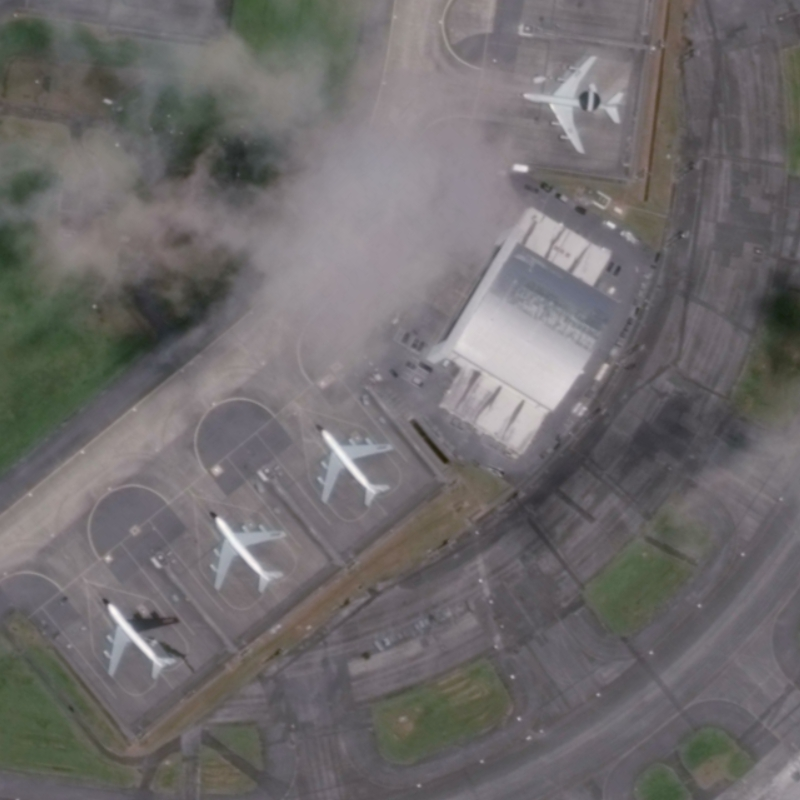A11: (305, 412, 399, 511), (97, 589, 192, 686), (201, 501, 292, 602)
A7: (513, 50, 633, 161)
